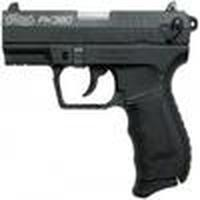gun: (1, 4, 199, 152)
